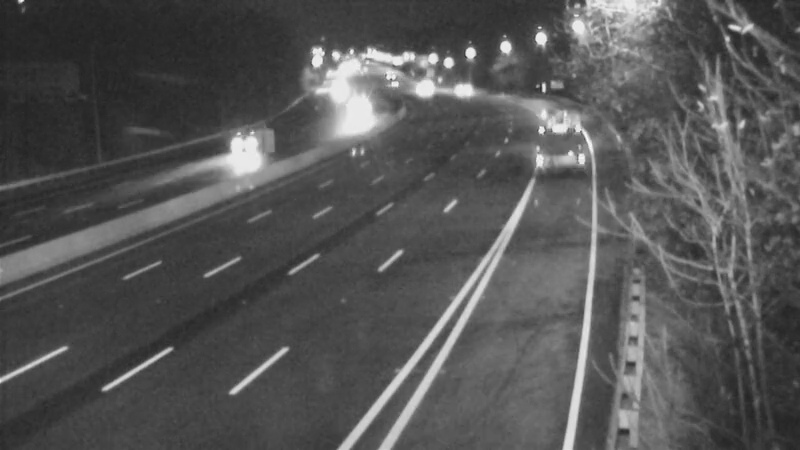vehicle: (366, 49, 416, 99), (403, 55, 453, 105), (394, 62, 444, 112), (439, 62, 489, 112), (400, 64, 450, 114), (522, 116, 572, 166), (211, 124, 261, 174), (331, 80, 381, 130), (311, 59, 361, 109)
